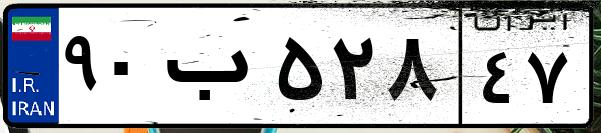0: (110, 28, 158, 98)
2: (330, 28, 385, 110)
4: (475, 38, 525, 113)
5: (270, 28, 330, 110)
7: (525, 38, 570, 115)
8: (385, 28, 445, 110)
9: (57, 26, 110, 100)
ب: (158, 20, 270, 120)
